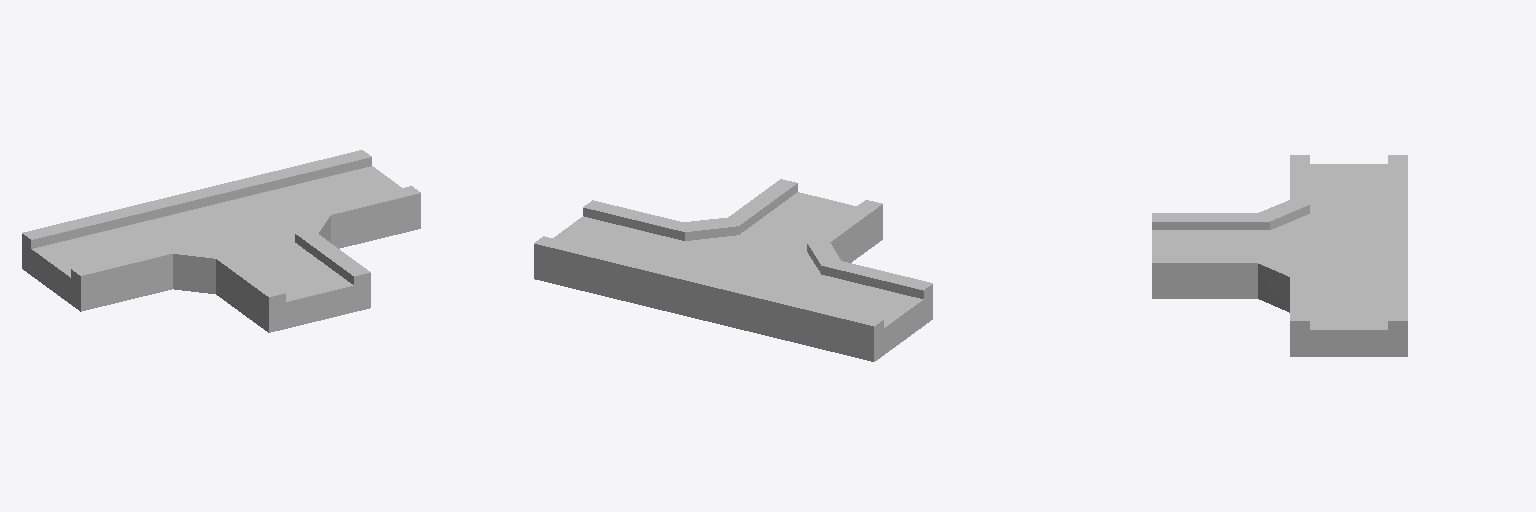
Rendered from road_cross_3.obj.
3 renders of one model, left to right at view 1: azimuth 30°, elevation 25°; view 2: azimuth 150°, elevation 25°; view 3: azimuth 270°, elevation 25°, orthographic.
Parts seen in each view (by area): view 1: road_cross_3_Cube.003; view 2: road_cross_3_Cube.003; view 3: road_cross_3_Cube.003.
Boxes of the visible parts, x1,y1,x2,y2 form: road_cross_3_Cube.003: [22, 150, 420, 332]; road_cross_3_Cube.003: [534, 179, 932, 361]; road_cross_3_Cube.003: [1152, 155, 1407, 356].
Size of the model in its own units: 0.02 by 0.002 by 0.013.